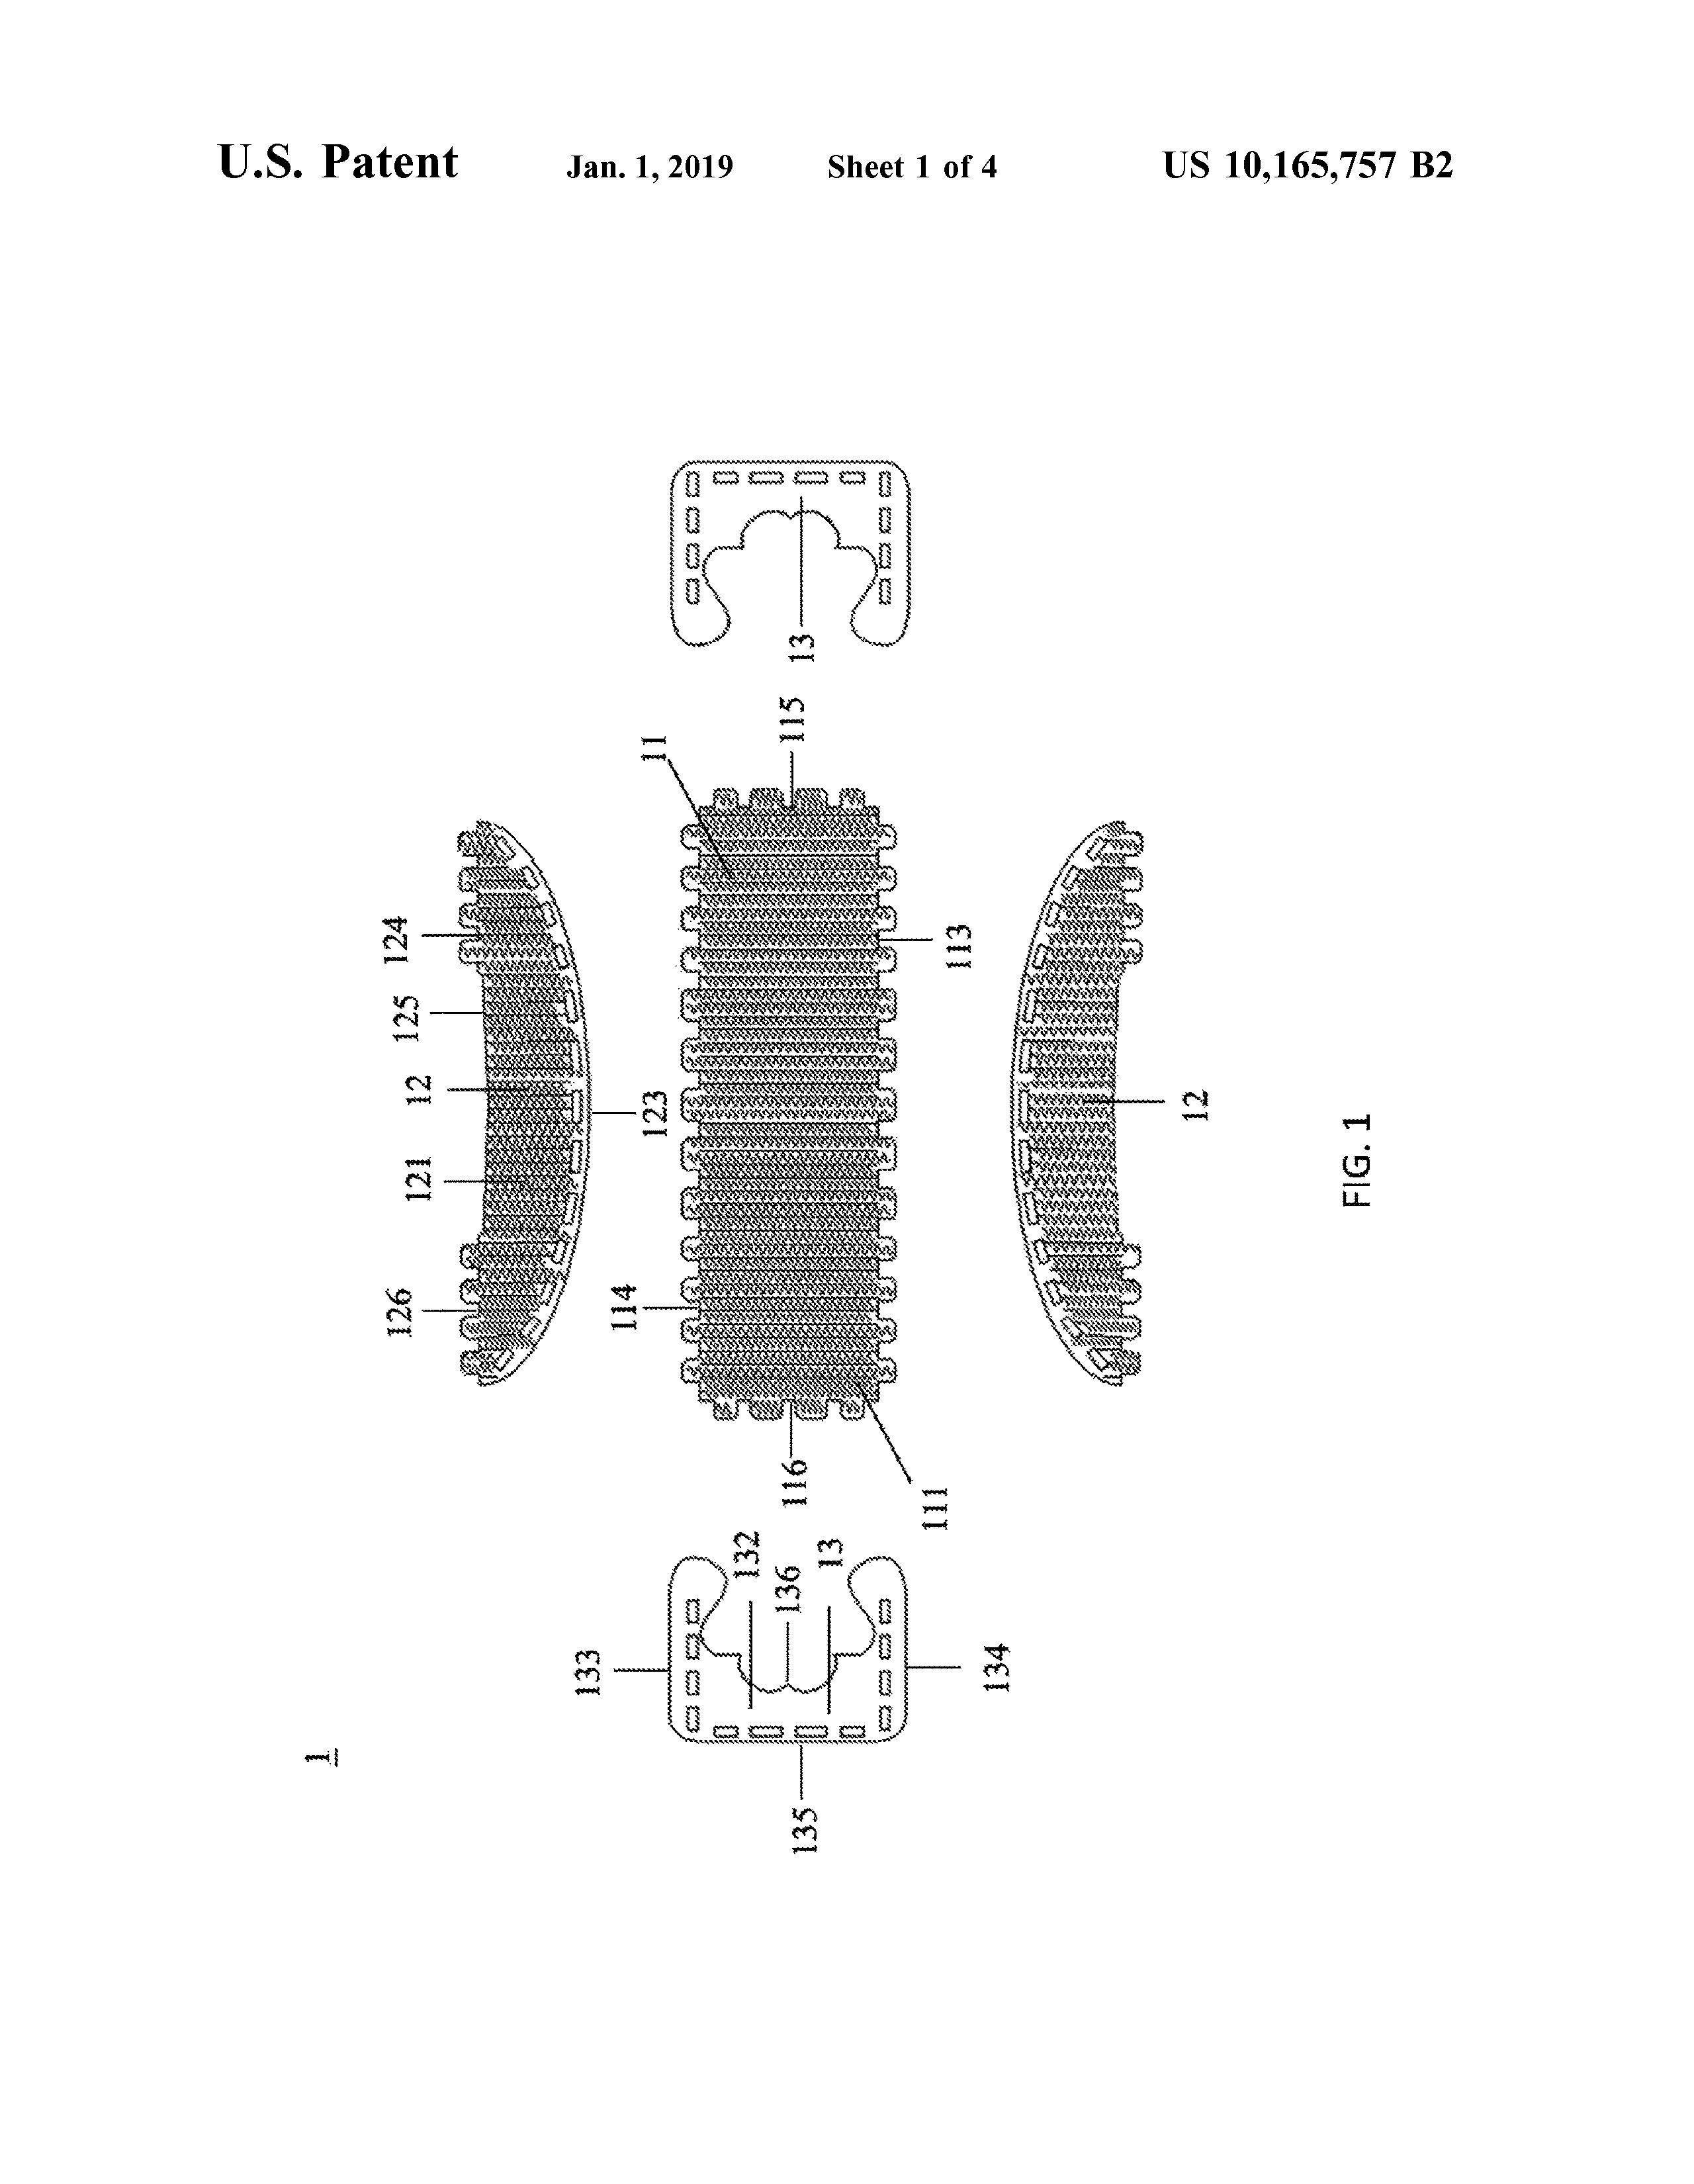patent image: (236, 381, 1524, 1905)
